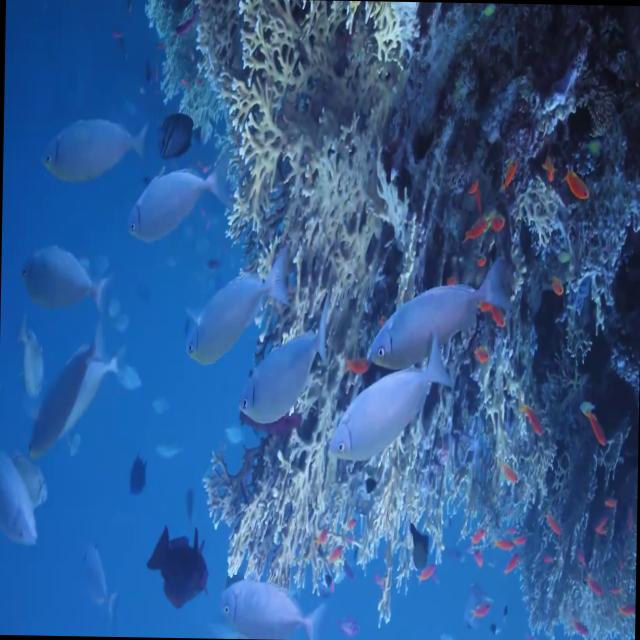fish: (364, 252, 502, 372), (329, 340, 450, 460), (237, 294, 328, 426), (24, 316, 106, 459), (184, 250, 286, 364), (122, 148, 229, 245), (41, 102, 148, 186), (214, 579, 318, 640), (18, 246, 104, 312), (146, 529, 210, 606)
